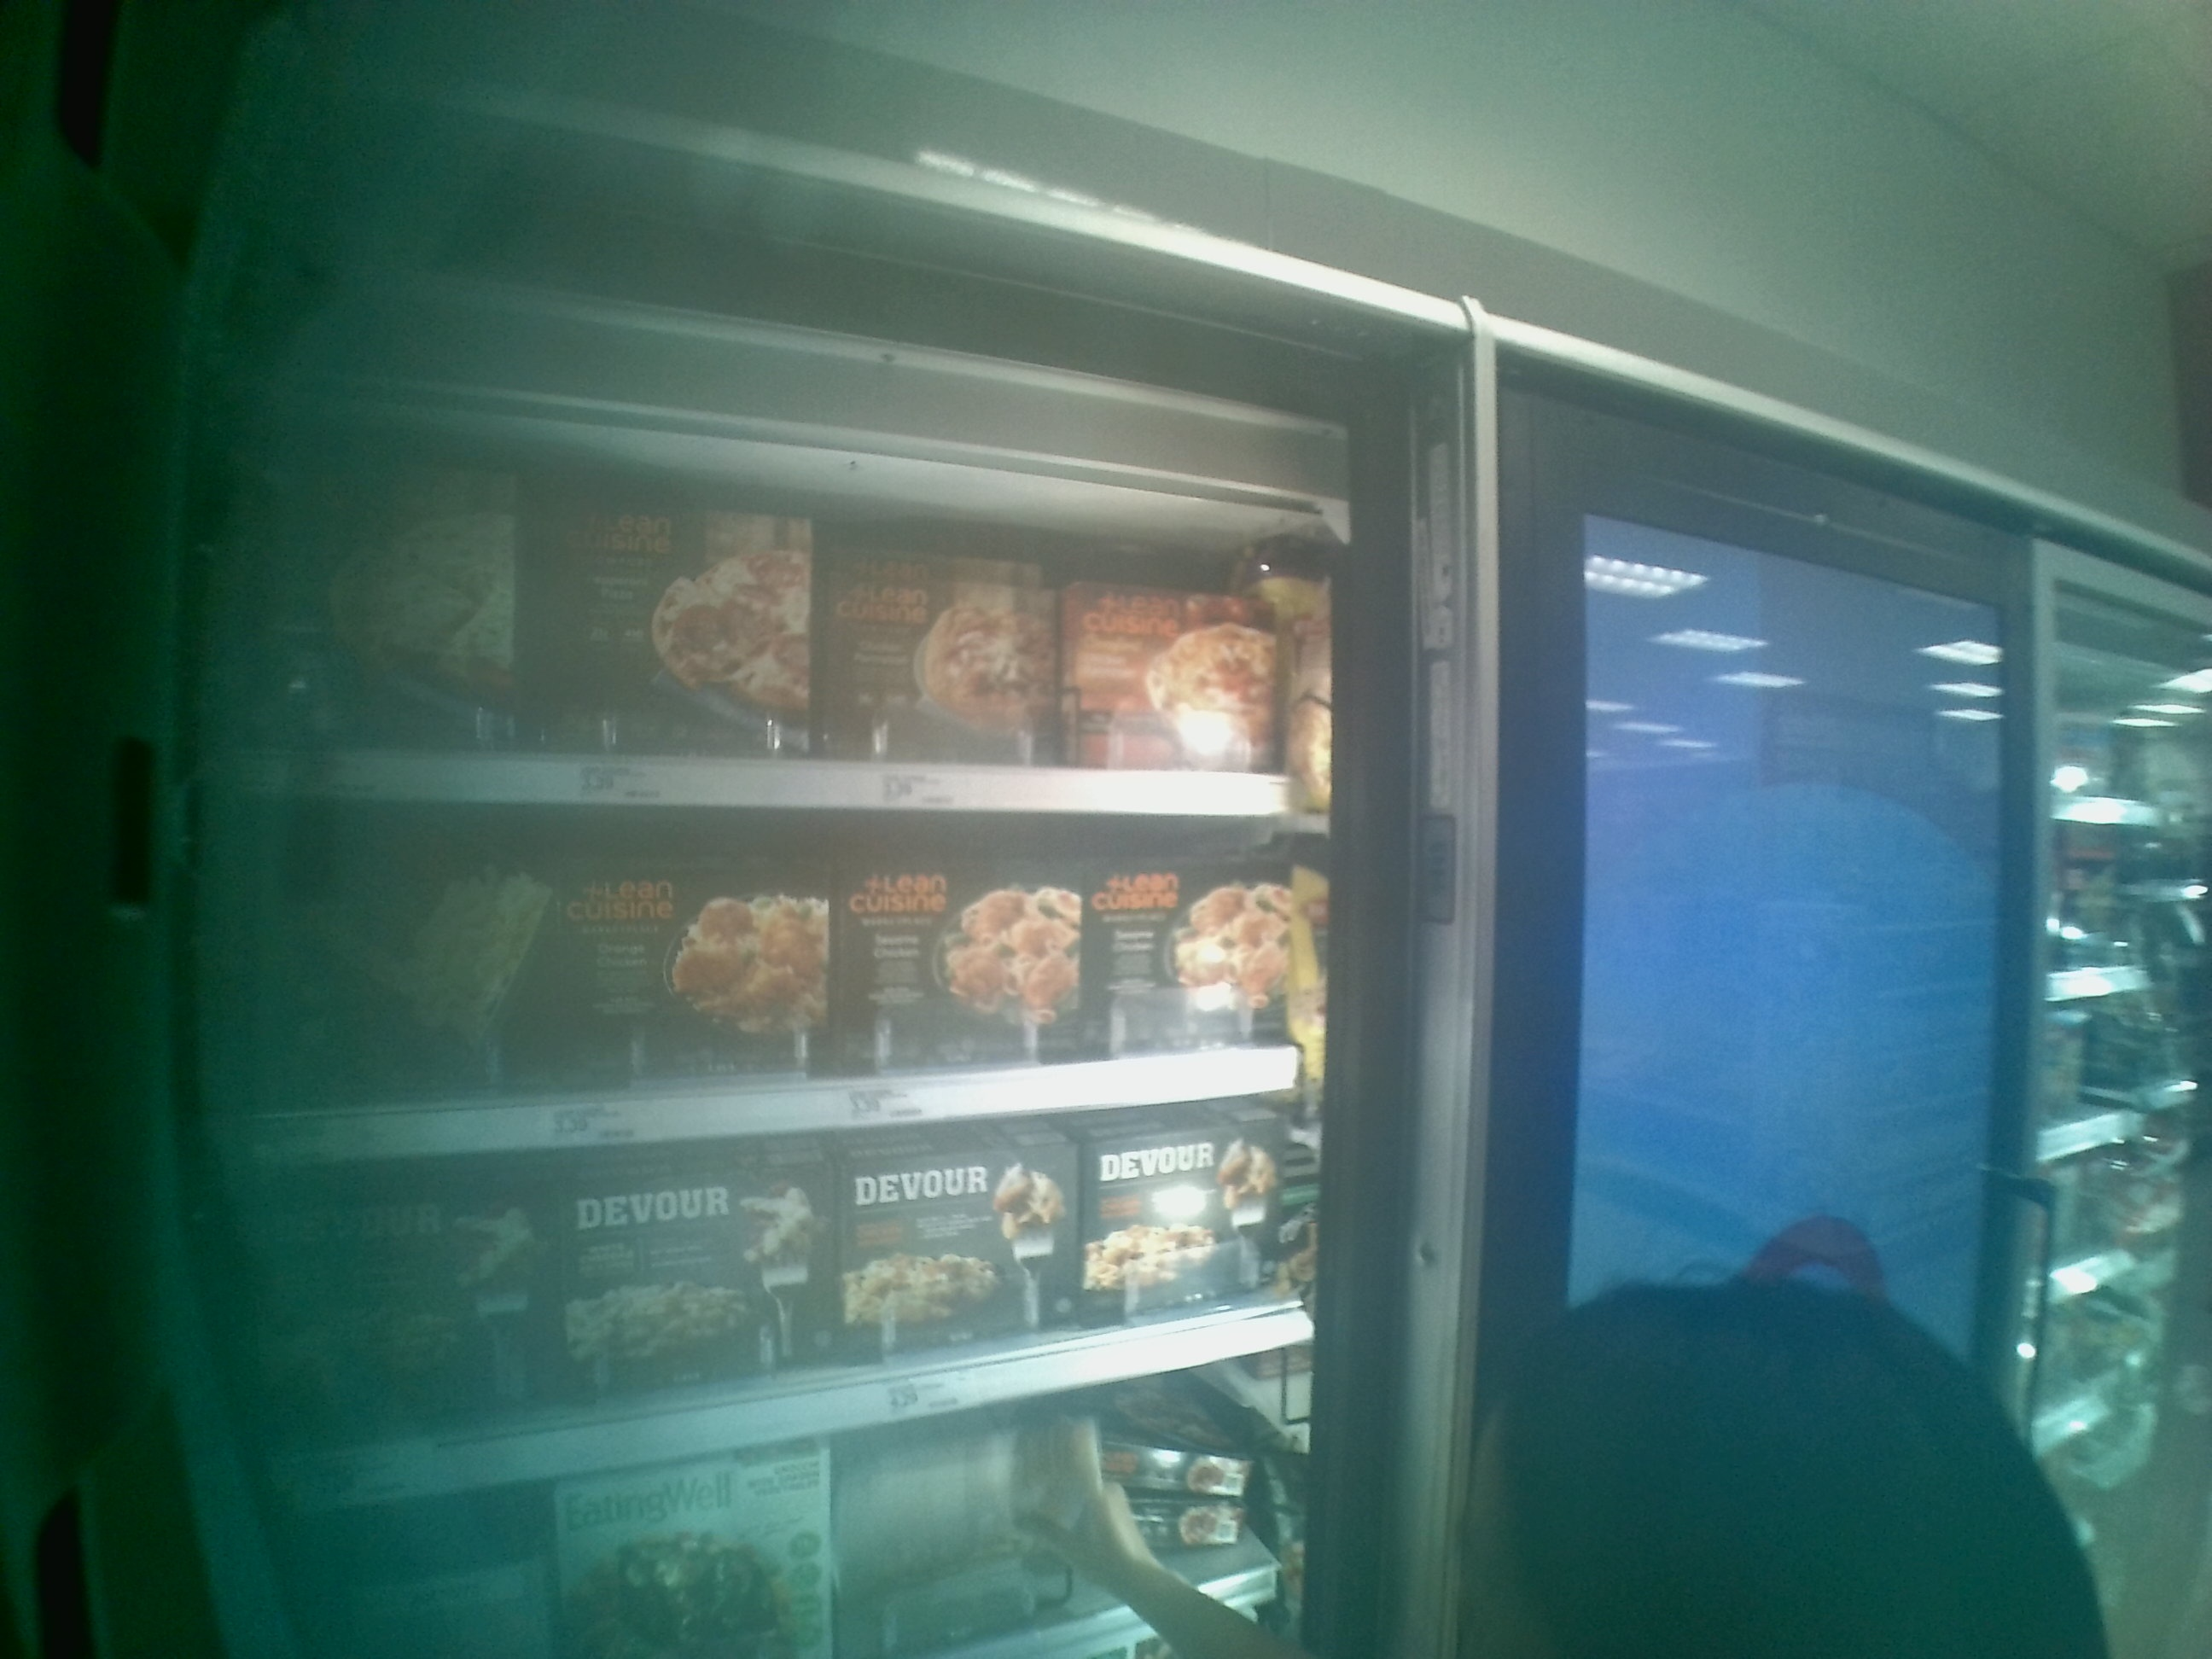shelf: (249, 425, 1298, 824), (225, 791, 1325, 1161)
